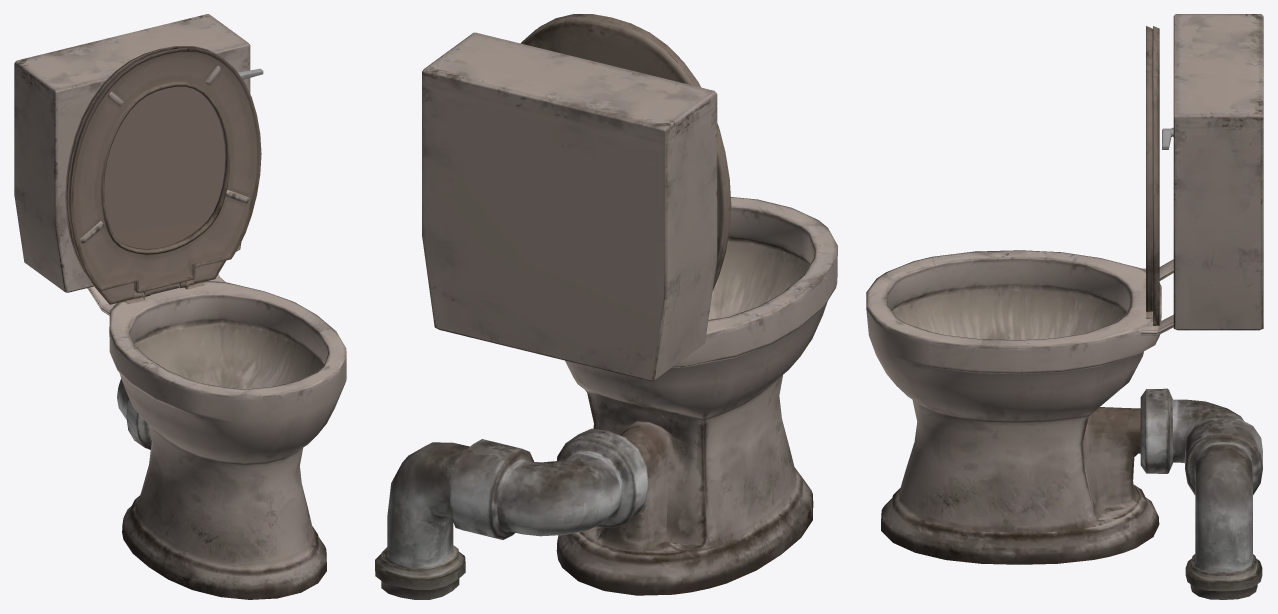
Rendered from toilet.glb.
3 renders of one model, left to right at view 1: azimuth 30°, elevation 25°; view 2: azimuth 150°, elevation 25°; view 3: azimuth 270°, elevation 25°, orthographic. The views are drawn at different scales.
Parts seen in each view (by area): view 1: pCylinder6, pCylinder4, pCube2, pCylinder9, pCube20, pCube19; view 2: pCube2, pCylinder6, pCube20, pCylinder9, pCylinder4; view 3: pCylinder6, pCube2, pCube20, pCylinder9, pCylinder4, LP1_pCube17.
Part boxes in pixels (x1=…): pCylinder6: x1=109, y1=281, x2=346, y2=599; pCylinder4: x1=68, y1=48, x2=261, y2=292; pCube2: x1=14, y1=14, x2=250, y2=292; pCylinder9: x1=65, y1=46, x2=226, y2=304; pCube20: x1=117, y1=378, x2=151, y2=449; pCube19: x1=80, y1=66, x2=249, y2=243; pCube2: x1=422, y1=32, x2=717, y2=381; pCylinder6: x1=556, y1=197, x2=837, y2=595; pCube20: x1=375, y1=428, x2=648, y2=599; pCylinder9: x1=520, y1=17, x2=727, y2=279; pCylinder4: x1=538, y1=14, x2=731, y2=290; pCylinder6: x1=866, y1=250, x2=1161, y2=564; pCube2: x1=1173, y1=14, x2=1263, y2=330; pCube20: x1=1140, y1=388, x2=1262, y2=599; pCylinder9: x1=1153, y1=26, x2=1159, y2=325; pCylinder4: x1=1146, y1=26, x2=1152, y2=311; LP1_pCube17: x1=1141, y1=259, x2=1173, y2=335.
Bounding box in the file's own units: 0.4512 × 0.8 × 0.5899.
Materials: 1 (1 with a texture image).
